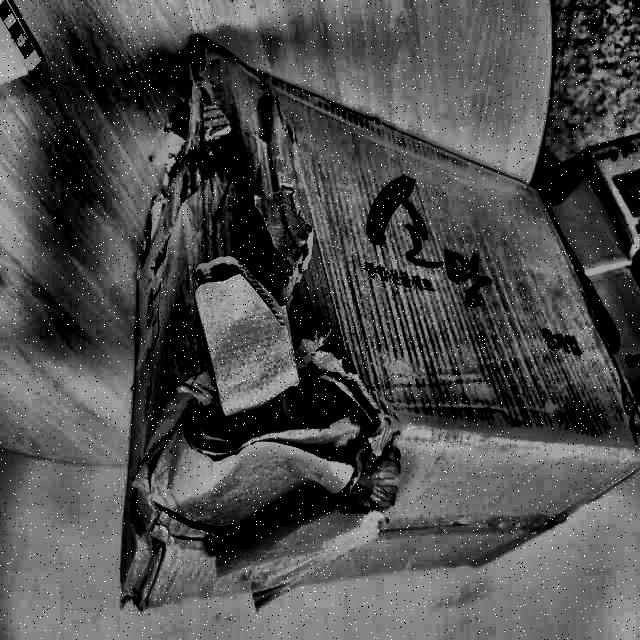box: (130, 63, 640, 599)
hole: (167, 329, 379, 461)
